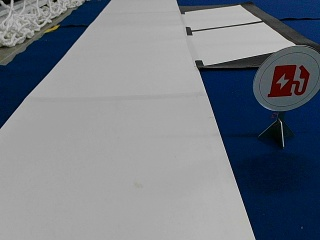battery: (253, 45, 319, 113)
